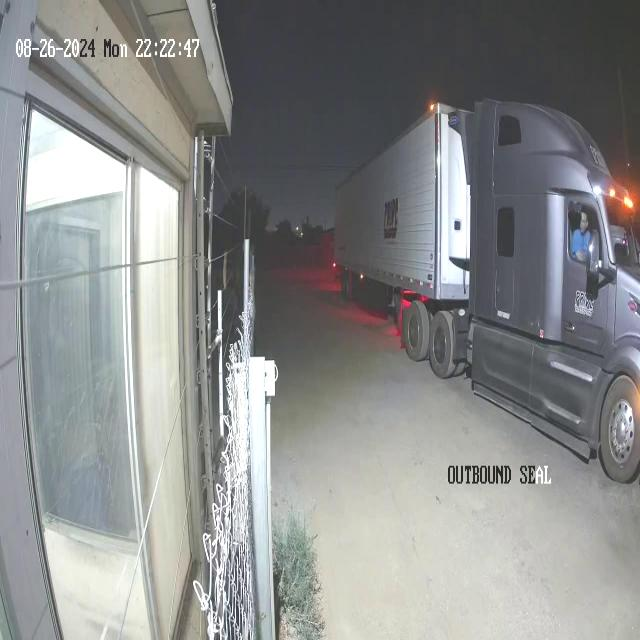CONTAINER: (333, 96, 473, 298)
